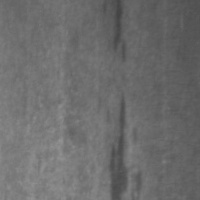inclusion: (101, 87, 138, 199), (106, 0, 133, 65)
